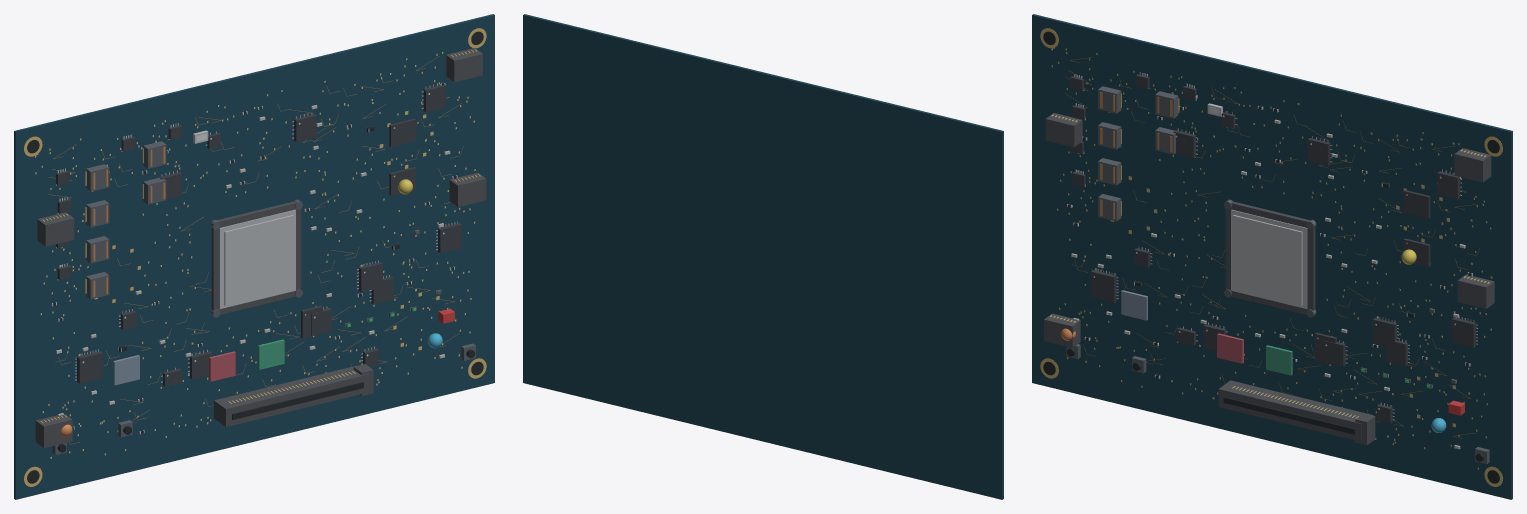
File: L108_DFX16_CompletedVisualReference.glb
3 renders of one model, left to right at view 1: azimuth 30°, elevation 25°; view 2: azimuth 150°, elevation 25°; view 3: azimuth 330°, elevation 25°, orthographic.
Parts seen in each view (by area): view 1: 1280_PCB, 2228_ALUMINUM, 1162_PLASTIC, 2025_PLASTIC, 2026_ALUMINUM, 1094_PLASTIC, 1145_PLASTIC, 1128_PLASTIC, 1111_PLASTIC, 1163_BLACK, 640_EPOXY, Phoenix_RECOVERY_U7 (+8 smaller); view 2: 1280_PCB; view 3: 1280_PCB, 2228_ALUMINUM, 1162_PLASTIC, 2025_PLASTIC, 2026_ALUMINUM, 1128_PLASTIC, 1145_PLASTIC, 1094_PLASTIC, 1111_PLASTIC, 1163_BLACK, 640_EPOXY, Phoenix_RECOVERY_EC_U5 (+8 smaller).
Part boxes in pixels (x1,y1,x2,y2): 1280_PCB: [14, 14, 494, 499]; 2228_ALUMINUM: [224, 215, 293, 305]; 1162_PLASTIC: [214, 365, 368, 426]; 2025_PLASTIC: [211, 201, 301, 314]; 2026_ALUMINUM: [219, 209, 295, 308]; 1094_PLASTIC: [37, 212, 74, 246]; 1145_PLASTIC: [449, 172, 486, 206]; 1128_PLASTIC: [446, 48, 482, 82]; 1111_PLASTIC: [35, 413, 72, 447]; 1163_BLACK: [232, 382, 363, 419]; 640_EPOXY: [77, 351, 103, 383]; Phoenix_RECOVERY_U7: [258, 339, 284, 369]; 1280_PCB: [523, 14, 1003, 499]; 1280_PCB: [1032, 14, 1512, 499]; 2228_ALUMINUM: [1233, 215, 1302, 305]; 1162_PLASTIC: [1218, 380, 1373, 441]; 2025_PLASTIC: [1225, 201, 1315, 314]; 2026_ALUMINUM: [1231, 209, 1307, 308]; 1128_PLASTIC: [1454, 148, 1491, 182]; 1145_PLASTIC: [1457, 274, 1494, 308]; 1094_PLASTIC: [1045, 113, 1082, 147]; 1111_PLASTIC: [1044, 313, 1080, 347]; 1163_BLACK: [1223, 397, 1355, 434]; 640_EPOXY: [1090, 270, 1116, 302]; Phoenix_RECOVERY_EC_U5: [1121, 290, 1147, 320].
Bounding box in the file's own units: 0.3 × 0.22 × 0.0156.
